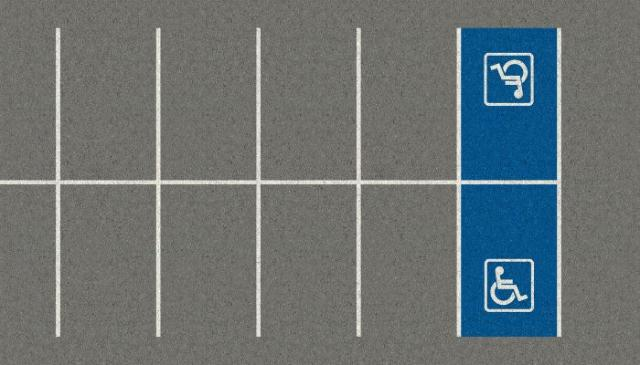Empty: (158, 182, 262, 339), (359, 184, 461, 342), (262, 182, 361, 339), (59, 184, 159, 338), (462, 32, 562, 184), (258, 32, 359, 182), (362, 32, 461, 184), (464, 184, 560, 340), (61, 30, 159, 180), (158, 33, 260, 177)
